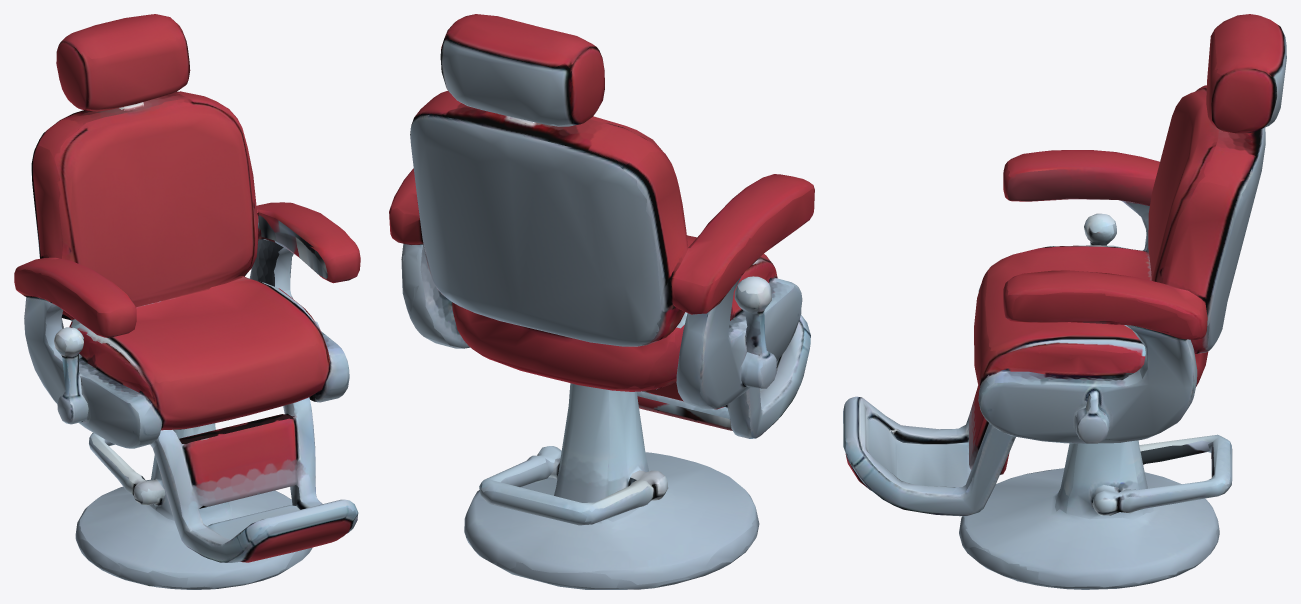
File: barber_chair_tex.glb
3 views of the same model, side by side, from view 1: azimuth 30°, elevation 25°; view 2: azimuth 150°, elevation 25°; view 3: azimuth 270°, elevation 25° (orthographic). The views are drawn at different scales.
Visible parts, largest first — view 1: tmp_3rautdt.ply; view 2: tmp_3rautdt.ply; view 3: tmp_3rautdt.ply.
Boxes of the visible parts, x1,y1,x2,y2 form: tmp_3rautdt.ply: (14,14,360,589); tmp_3rautdt.ply: (389,14,814,589); tmp_3rautdt.ply: (843,14,1286,589).
Size of the model in its own units: 0.5996 by 0.9869 by 0.7926.
Materials: 1 (1 with a texture image).
